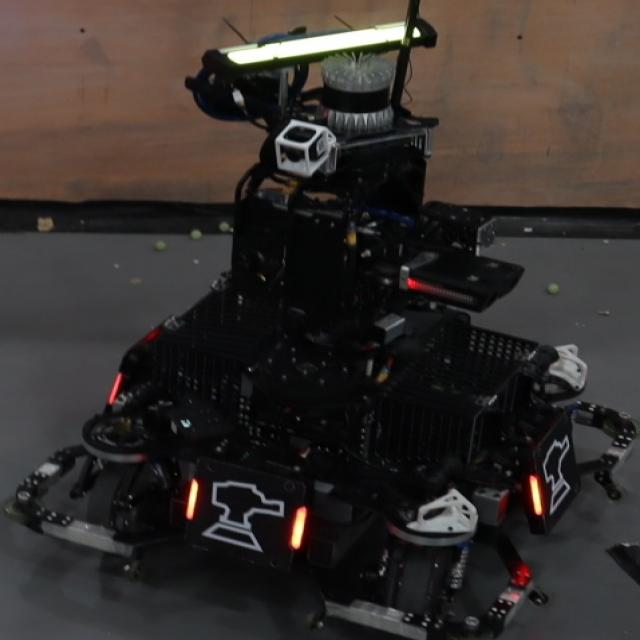Rs: (179, 476, 304, 553), (525, 432, 581, 517)
